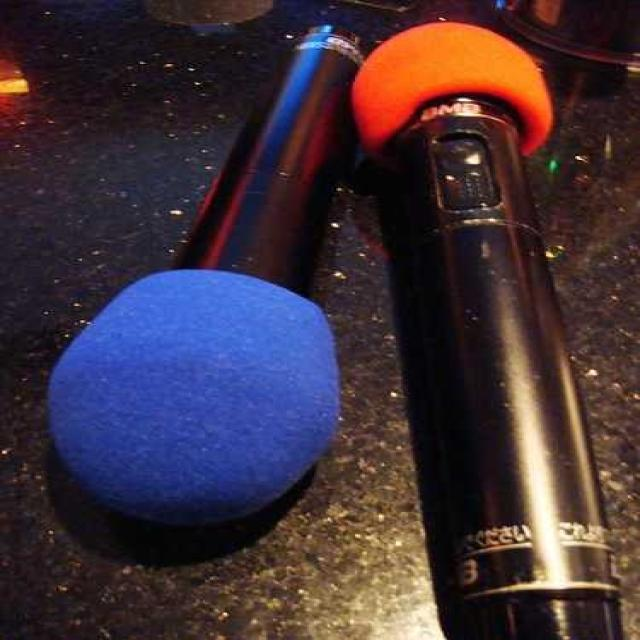microphone: (328, 3, 634, 586), (45, 8, 356, 550)
